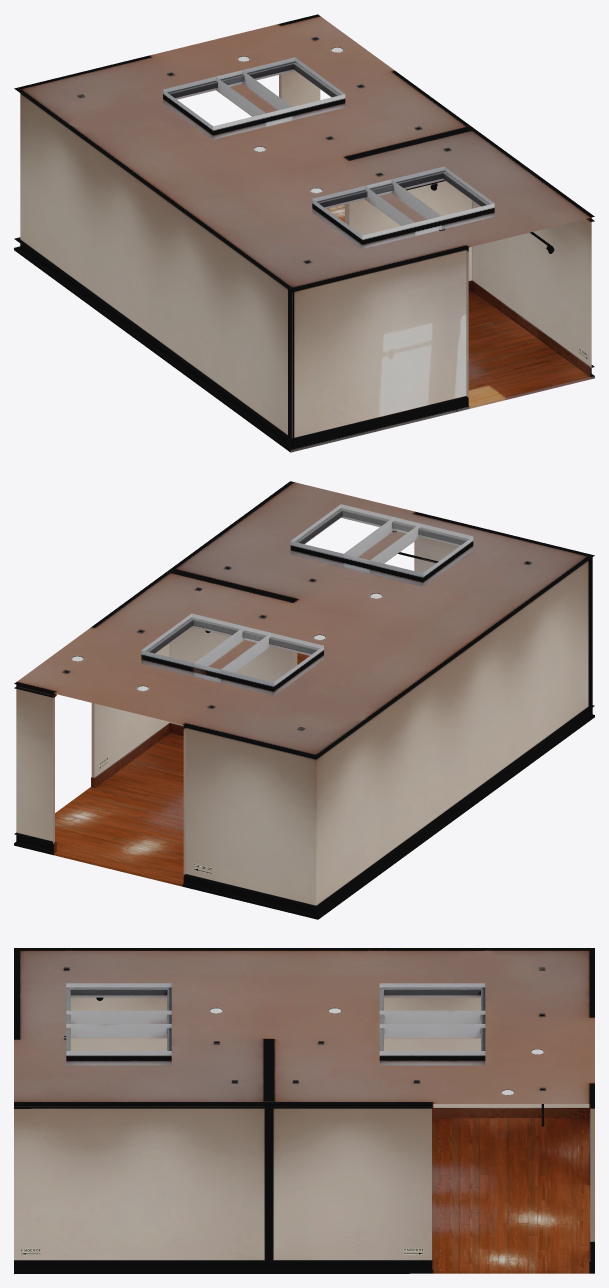
Rendered from room_2.glb.
3 views of the same model, one above another, from view 1: azimuth 30°, elevation 25°; view 2: azimuth 150°, elevation 25°; view 3: azimuth 270°, elevation 25° (orthographic). The views are drawn at different scales.
Parts seen in each view (by area): view 1: room_2; view 2: room_2; view 3: room_2.
Part boxes in pixels (bbox=[...]): room_2: bbox=[14, 14, 594, 452]; room_2: bbox=[14, 481, 594, 919]; room_2: bbox=[14, 948, 594, 1273].
Size of the model in its own units: 7 by 3.85 by 11.01.
Materials: 2 (2 with a texture image).
